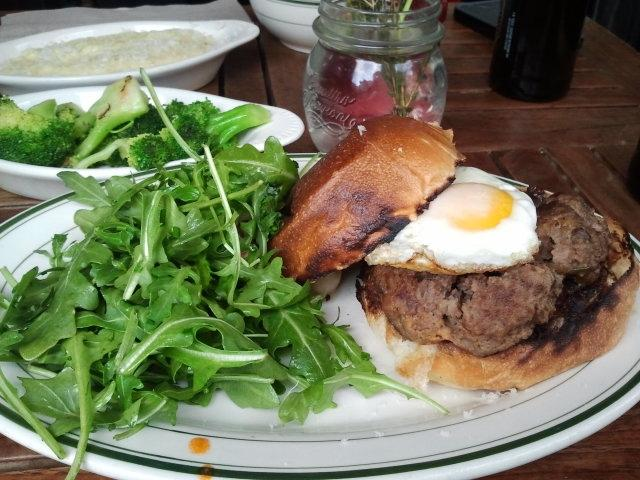broccoli: (60, 74, 151, 168), (0, 93, 82, 168), (90, 104, 166, 168), (156, 114, 210, 160), (127, 134, 170, 171), (55, 102, 85, 122), (164, 98, 187, 123)
